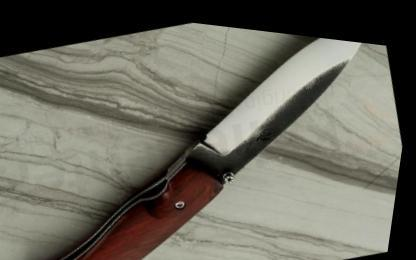knife: (136, 14, 415, 216)
